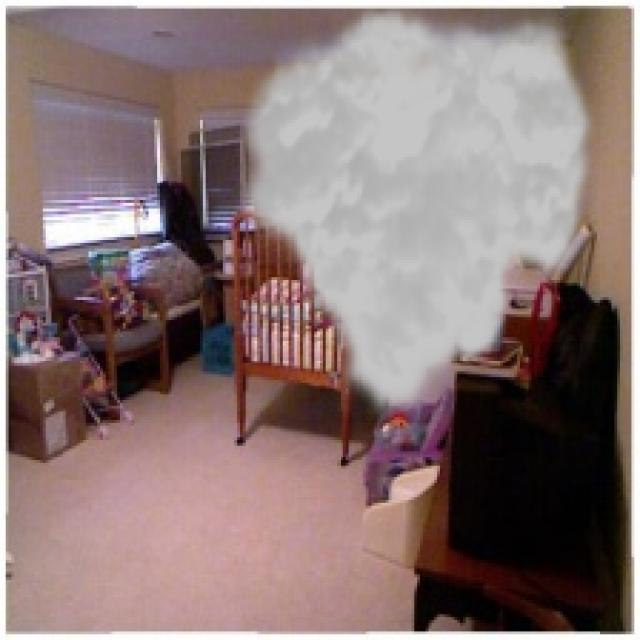smoke: (231, 3, 600, 423)
